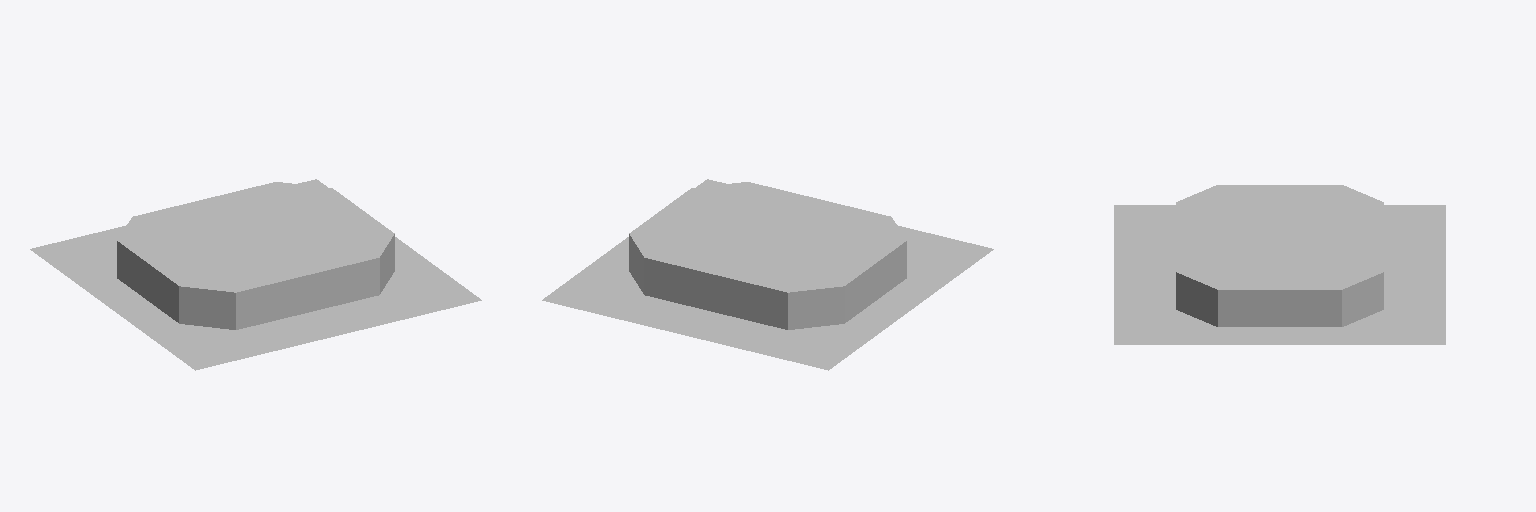
File: SwitchUp.obj
3 renders of one model, left to right at view 1: azimuth 30°, elevation 25°; view 2: azimuth 150°, elevation 25°; view 3: azimuth 270°, elevation 25°, orthographic.
Visible parts, largest first — view 1: __21x0x21_; view 2: __21x0x21_; view 3: __21x0x21_.
Boxes of the visible parts, <box> form: __21x0x21_: <box>30,179,481,370</box>; __21x0x21_: <box>542,179,993,370</box>; __21x0x21_: <box>1114,185,1445,344</box>.
Size of the model in its own units: 8 by 1 by 8.